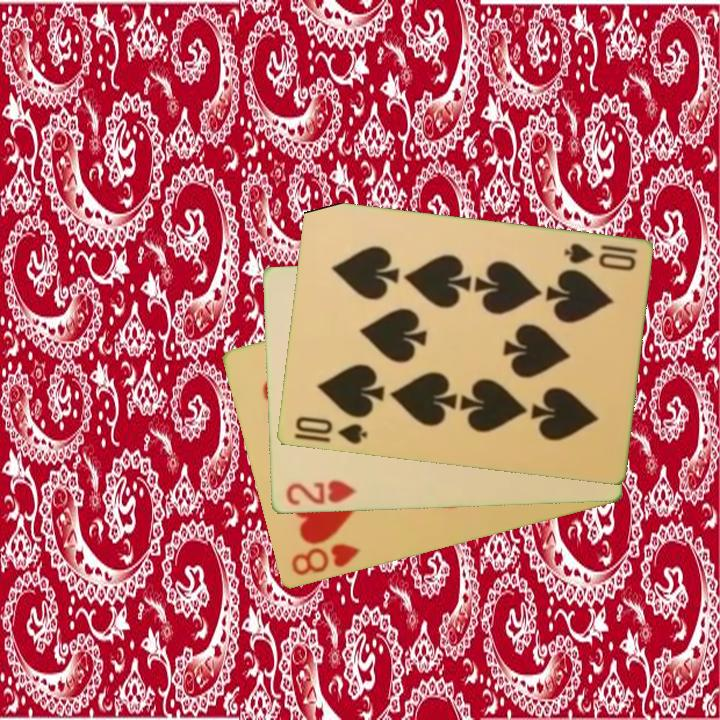10s: (291, 413, 370, 448), (560, 240, 640, 274)
2h: (282, 477, 359, 509)
8h: (287, 540, 363, 579)
